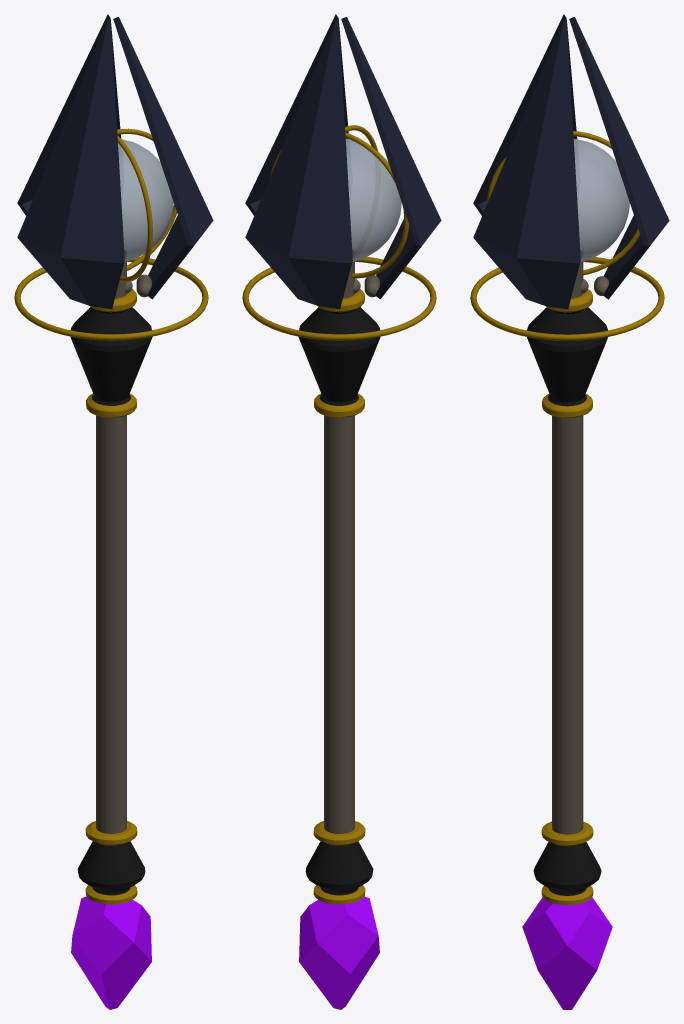
File: Weapon_Closed.fbx
The picture shows the model from 3 angles, left to right: view 1: azimuth 30°, elevation 25°; view 2: azimuth 150°, elevation 25°; view 3: azimuth 270°, elevation 25°; orthographic projection.
Parts seen in each view (by area): view 1: Blade.009, Staff.004, Bottom_Stone, Top_Decorative, Blade.010, Sphere.003, Bottom_Decorative, Torus_staff, Blade.008, Torus.011, Torus.008; view 2: Blade.008, Staff.004, Bottom_Stone, Top_Decorative, Blade.009, Sphere.003, Bottom_Decorative, Torus_staff, Blade.010, Torus.008; view 3: Blade.010, Staff.004, Bottom_Stone, Top_Decorative, Blade.008, Sphere.003, Bottom_Decorative, Torus_staff, Blade.009, Torus.011.
Boxes of the visible parts, bbox=[...] form: Blade.009: bbox=[17, 19, 124, 309]; Staff.004: bbox=[96, 250, 126, 833]; Bottom_Stone: bbox=[71, 896, 151, 1009]; Top_Decorative: bbox=[70, 289, 152, 417]; Blade.010: bbox=[113, 17, 213, 299]; Sphere.003: bbox=[118, 139, 173, 261]; Bottom_Decorative: bbox=[77, 821, 145, 904]; Torus_staff: bbox=[14, 257, 208, 340]; Blade.008: bbox=[17, 14, 121, 215]; Torus.011: bbox=[117, 135, 152, 282]; Torus.008: bbox=[117, 128, 176, 270]; Blade.008: bbox=[245, 19, 352, 309]; Staff.004: bbox=[324, 250, 354, 833]; Bottom_Stone: bbox=[299, 896, 379, 1009]; Top_Decorative: bbox=[298, 289, 380, 417]; Blade.009: bbox=[341, 17, 441, 299]; Sphere.003: bbox=[345, 138, 401, 261]; Bottom_Decorative: bbox=[305, 821, 373, 904]; Torus_staff: bbox=[242, 257, 436, 340]; Blade.010: bbox=[245, 14, 348, 215]; Torus.008: bbox=[270, 132, 408, 278]; Blade.010: bbox=[473, 19, 580, 309]; Staff.004: bbox=[552, 250, 583, 834]; Bottom_Stone: bbox=[522, 897, 612, 1009]; Top_Decorative: bbox=[527, 289, 607, 418]; Blade.008: bbox=[569, 17, 669, 299]; Sphere.003: bbox=[573, 139, 629, 261]; Bottom_Decorative: bbox=[533, 821, 601, 905]; Torus_staff: bbox=[470, 257, 664, 340]; Blade.009: bbox=[473, 14, 577, 215]; Torus.011: bbox=[487, 131, 640, 275].
Size of the model in its own units: 65.08 by 349 by 63.58.
